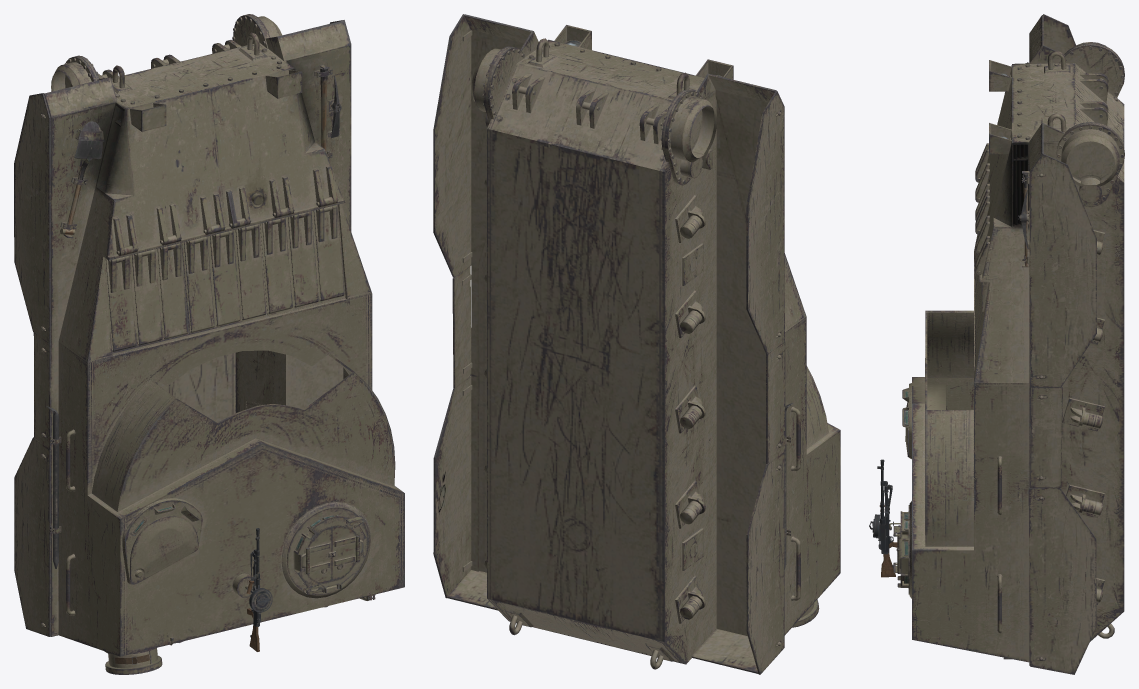
Rendered from Hull.glb.
3 renders of one model, left to right at view 1: azimuth 30°, elevation 25°; view 2: azimuth 150°, elevation 25°; view 3: azimuth 270°, elevation 25°, orthographic. The views are drawn at different scales.
Parts seen in each view (by area): view 1: set_0_group_0; view 2: set_0_group_0; view 3: set_0_group_0.
Boxes of the visible parts, x1,y1,x2,y2 form: set_0_group_0: (14, 14, 404, 674); set_0_group_0: (433, 14, 840, 674); set_0_group_0: (869, 14, 1124, 674).
Bounding box in the file's own units: 3.02 × 5.2 × 2.29.
1 material, 1 textured.
